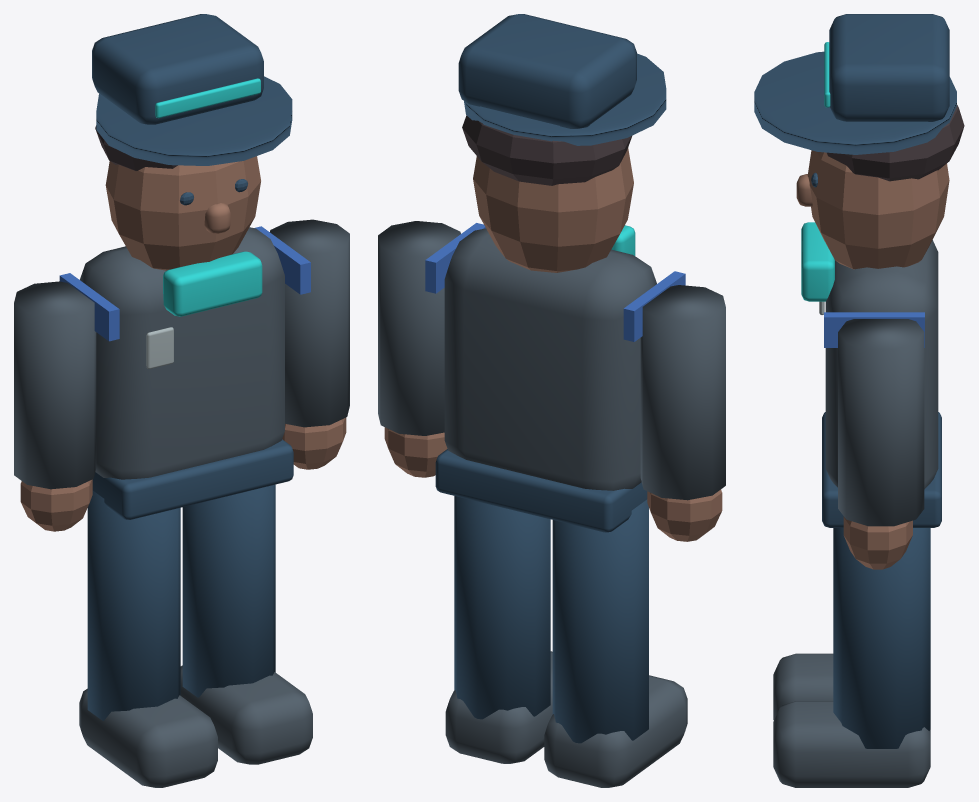
File: HL_Police_Tactical.fbx
3 views of the same model, side by side, from view 1: azimuth 30°, elevation 25°; view 2: azimuth 150°, elevation 25°; view 3: azimuth 270°, elevation 25° (orthographic). The views are drawn at different scales.
Visible parts, largest first — view 1: Torso | tailored jacket.004, Leg | trousers.006, Leg | trousers.007, Arm | sleeve.008, Uniform | hat crown.001, Head | face.004, Arm | sleeve.009, Uniform | hat brim.001, Foot | sneaker.008, Foot | sneaker.009, Torso | belt.004, Torso | collar.004 (+8 smaller); view 2: Torso | tailored jacket.004, Leg | trousers.006, Leg | trousers.007, Arm | sleeve.008, Uniform | hat crown.001, Arm | sleeve.009, Head | face.004, Torso | belt.004, Foot | sneaker.008, Head | hair cap.004, Uniform | hat brim.001, Foot | sneaker.009 (+4 smaller); view 3: Leg | trousers.007, Arm | sleeve.009, Uniform | hat crown.001, Head | face.004, Foot | sneaker.009, Torso | tailored jacket.004, Uniform | hat brim.001, Head | hair cap.004, Foot | sneaker.008, Arm | hand.009, Torso | belt.004, Torso | collar.004 (+3 smaller).
Boxes of the visible parts, x1,y1,x2,y2 form: Torso | tailored jacket.004: (80,227,284,479); Leg | trousers.006: (87,490,180,720); Leg | trousers.007: (182,484,275,697); Arm | sleeve.008: (14,281,96,489); Uniform | hat crown.001: (92,14,263,124); Head | face.004: (105,156,260,270); Arm | sleeve.009: (270,219,349,427); Uniform | hat brim.001: (96,76,292,165); Foot | sneaker.008: (79,688,217,787); Foot | sneaker.009: (180,665,312,764); Torso | belt.004: (92,439,293,519); Torso | collar.004: (163,251,262,316); Torso | tailored jacket.004: (444,228,656,490); Leg | trousers.006: (552,499,648,743); Leg | trousers.007: (454,496,550,719); Arm | sleeve.008: (640,285,725,500); Uniform | hat crown.001: (458,14,636,128); Arm | sleeve.009: (378,221,460,435); Head | face.004: (473,148,633,272); Torso | belt.004: (435,449,647,532); Foot | sneaker.008: (544,675,687,787); Head | hair cap.004: (462,115,631,185); Uniform | hat brim.001: (464,53,666,145); Foot | sneaker.009: (445,651,552,763); Leg | trousers.007: (833,528,930,748); Arm | sleeve.009: (838,319,924,526); Uniform | hat crown.001: (829,14,949,121); Head | face.004: (807,150,949,269); Foot | sneaker.009: (773,701,930,787); Torso | tailored jacket.004: (825,240,938,489); Uniform | hat brim.001: (754,51,956,154); Head | hair cap.004: (827,105,964,181); Foot | sneaker.008: (773,653,833,720); Arm | hand.009: (843,516,912,569); Torso | belt.004: (822,412,941,527); Torso | collar.004: (801,222,834,301).
Bounding box in the file's own units: 102 × 210 × 56.
